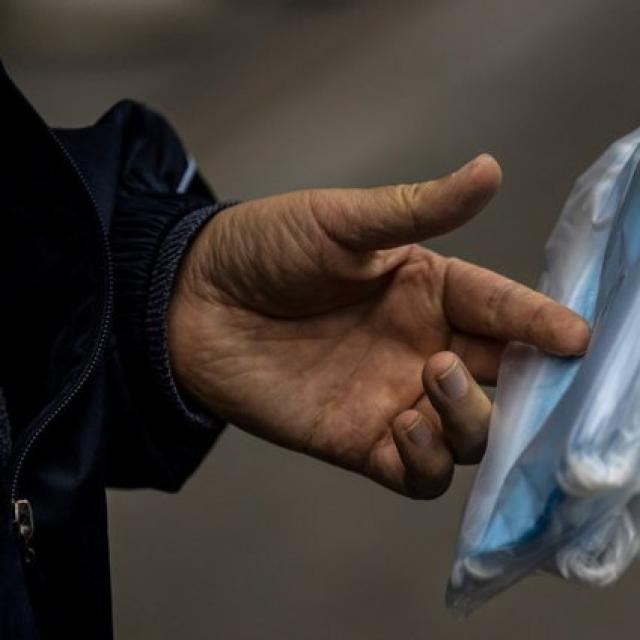face mask: (480, 122, 640, 607)
